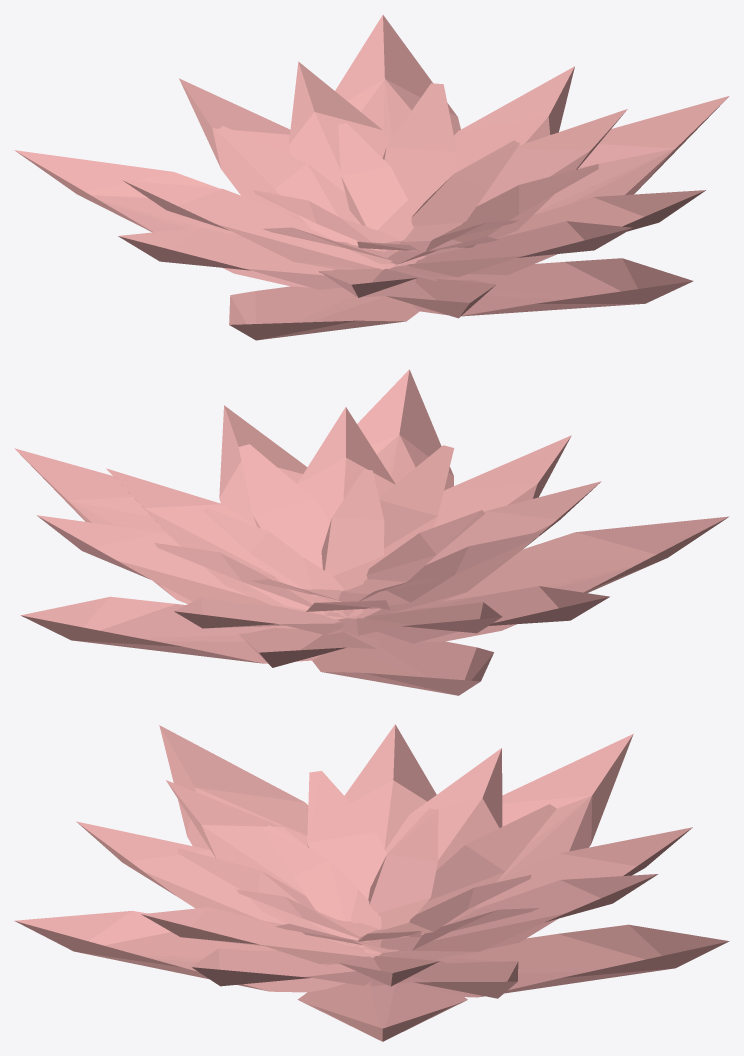
File: nenuphar_flower.fbx
The picture shows the model from 3 angles, top to bottom: view 1: azimuth 30°, elevation 25°; view 2: azimuth 150°, elevation 25°; view 3: azimuth 270°, elevation 25°; orthographic projection. The views are drawn at different scales.
Parts seen in each view (by area): view 1: nenuphar_flower; view 2: nenuphar_flower; view 3: nenuphar_flower.
Boxes of the visible parts, x1,y1,x2,y2 form: nenuphar_flower: (14,15,729,340); nenuphar_flower: (14,369,729,695); nenuphar_flower: (14,724,729,1041).
Bounding box in the file's own units: 125 × 23.25 × 125.
